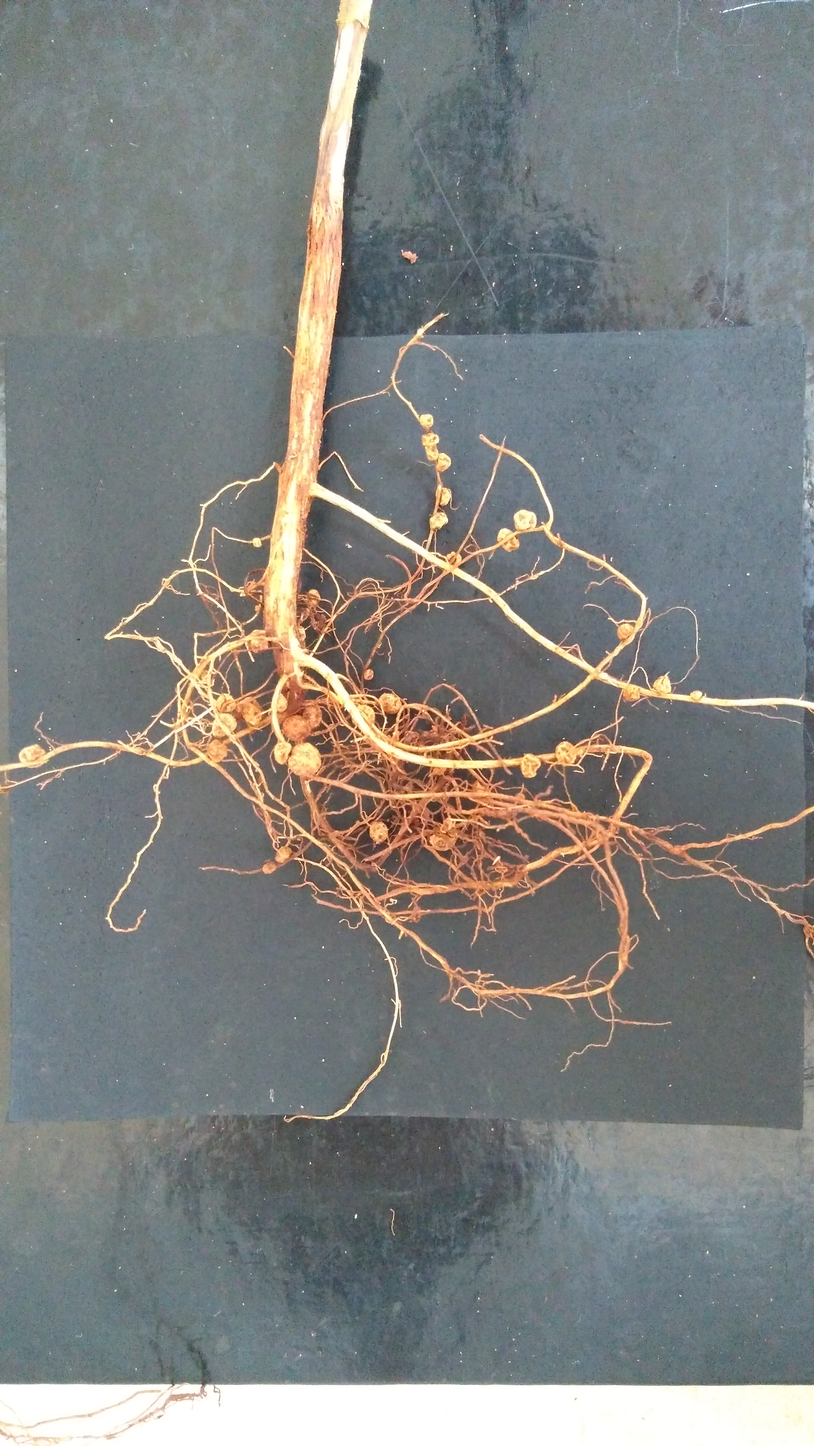nodule: (288, 742, 321, 776), (235, 696, 266, 725), (282, 714, 311, 741), (19, 744, 49, 768), (212, 713, 237, 738), (351, 704, 375, 729), (302, 701, 322, 729), (418, 728, 457, 742), (497, 528, 519, 552), (555, 741, 576, 766), (513, 509, 537, 530), (520, 754, 541, 778), (430, 833, 458, 851), (207, 739, 228, 763), (473, 780, 492, 806), (379, 693, 401, 714), (249, 629, 268, 653), (369, 821, 388, 844), (273, 741, 292, 764), (242, 703, 262, 724), (216, 693, 237, 712), (413, 807, 431, 829), (308, 612, 326, 632), (429, 512, 448, 530), (653, 676, 671, 694), (429, 764, 452, 778), (617, 623, 635, 640), (275, 846, 292, 863), (623, 685, 640, 701), (403, 730, 419, 747), (436, 453, 451, 471), (436, 488, 451, 506), (445, 551, 461, 567), (439, 817, 454, 833), (306, 589, 320, 606), (421, 432, 439, 445), (425, 445, 439, 461), (277, 693, 288, 712), (262, 862, 277, 874), (296, 625, 306, 642), (420, 414, 433, 427), (200, 670, 211, 684), (300, 607, 310, 622), (513, 793, 525, 804), (690, 690, 702, 700), (364, 669, 374, 680), (252, 537, 262, 548), (255, 605, 260, 612)
